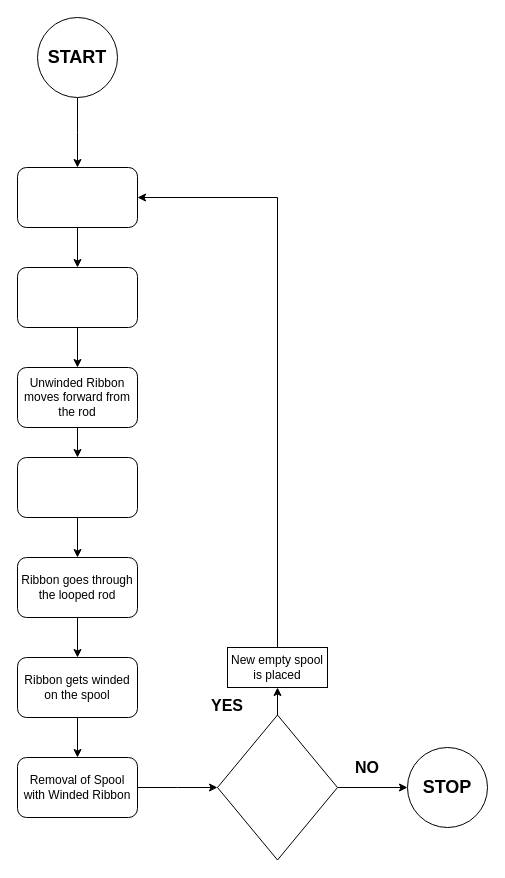
Some shapes in this 505 by 878 pixel diagram are drawn without their labels. Here are the shapes that lost their labels. From the top down, the centre of each, then its label:
At (x=77, y=197): "User Inputs length and starts the device".
At (x=77, y=297): "Motor Starts Rotating the winding Spool".
At (x=77, y=487): "Ribbon Passes through release pulley".
At (x=277, y=787): "Another Spool of Ribbon is to be winded".
